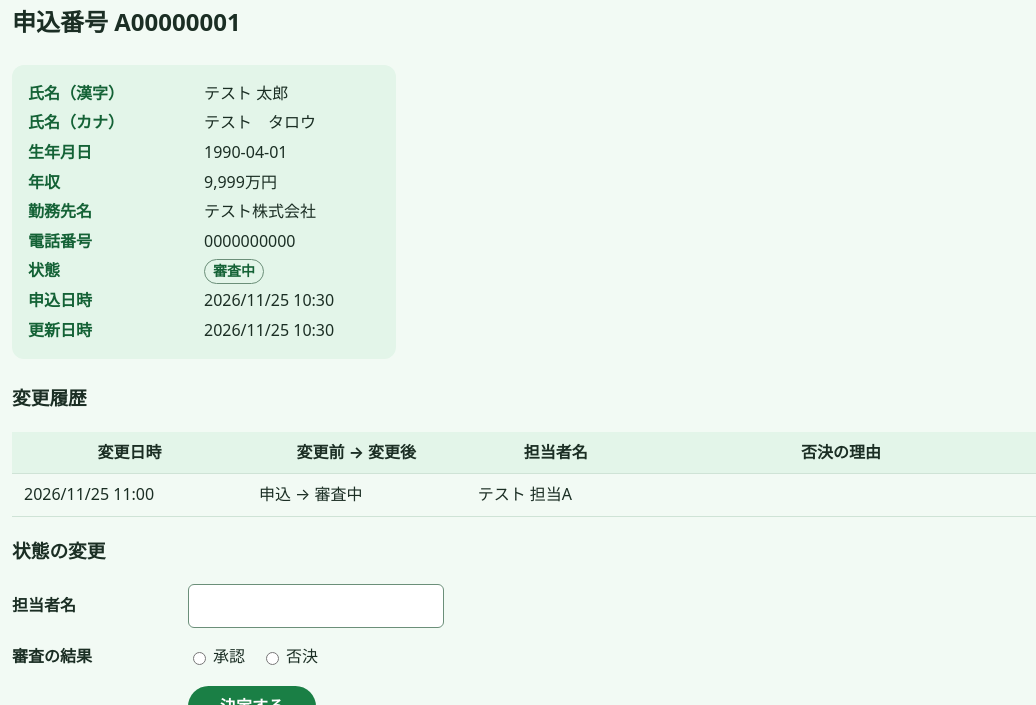
Test case: ほかの担当者とぶつかったら、詳細を読み直して最新の状態と履歴を出し、メッセージは残す
The width and height of the screenshot is (1036, 705).
Type "テスト 担当B" into the field labelled "担当者名".
click(316, 606); type("テスト 担当B")  # box left=188, top=584, right=444, bottom=628
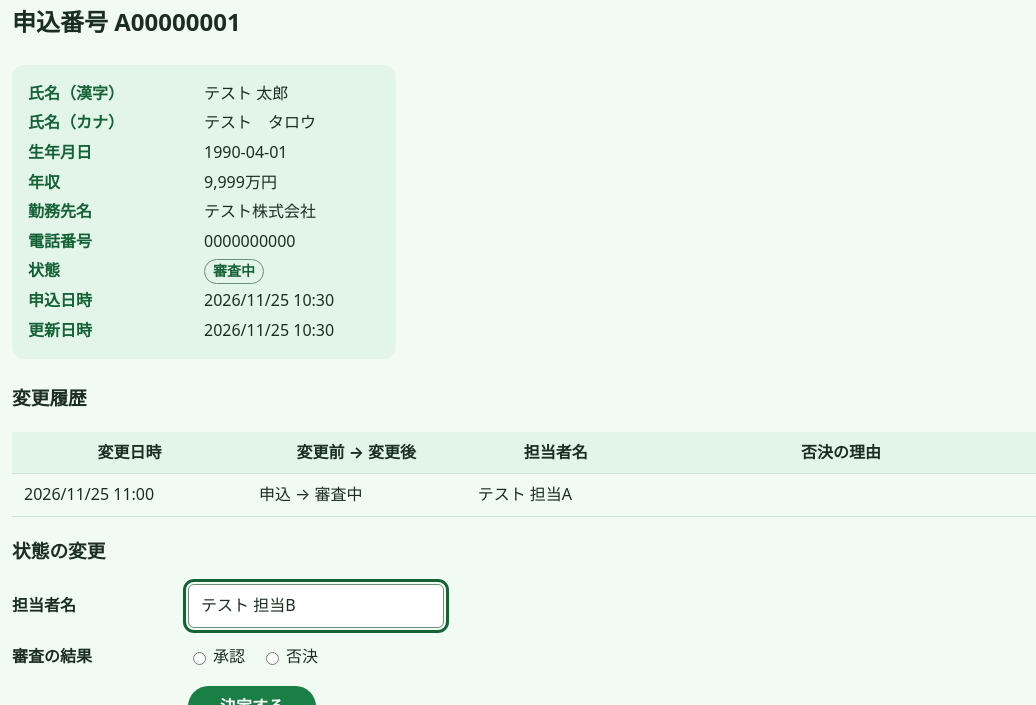
Click the radio button labelled "否決".
click(272, 658)  # box left=266, top=652, right=279, bottom=665
(page scrolled)
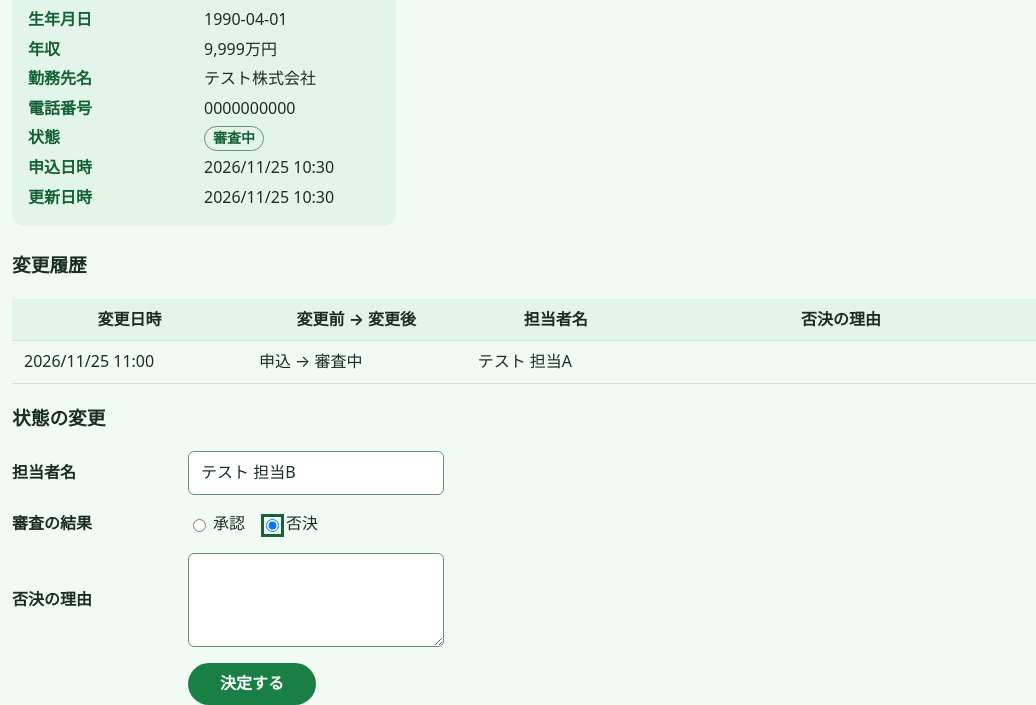
Type "テスト用の否決理由" into the text box labelled "否決の理由".
click(316, 600); type("テスト用の否決理由")  # box left=188, top=553, right=444, bottom=647
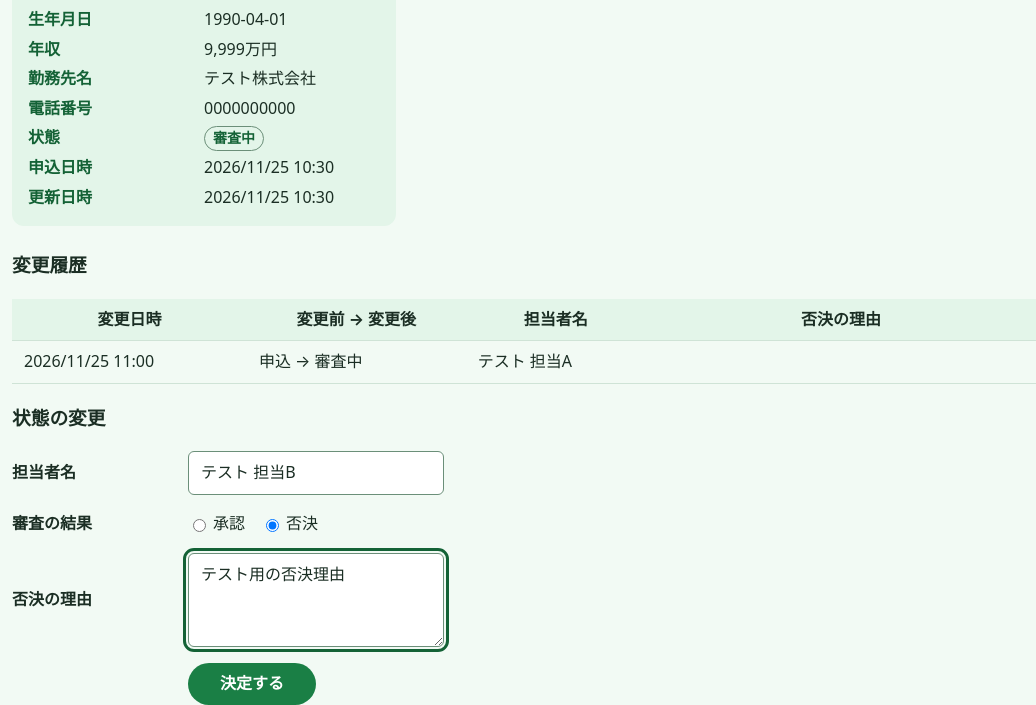
Click the button "決定する".
click(252, 684)  # box left=188, top=663, right=316, bottom=704
(page scrolled)
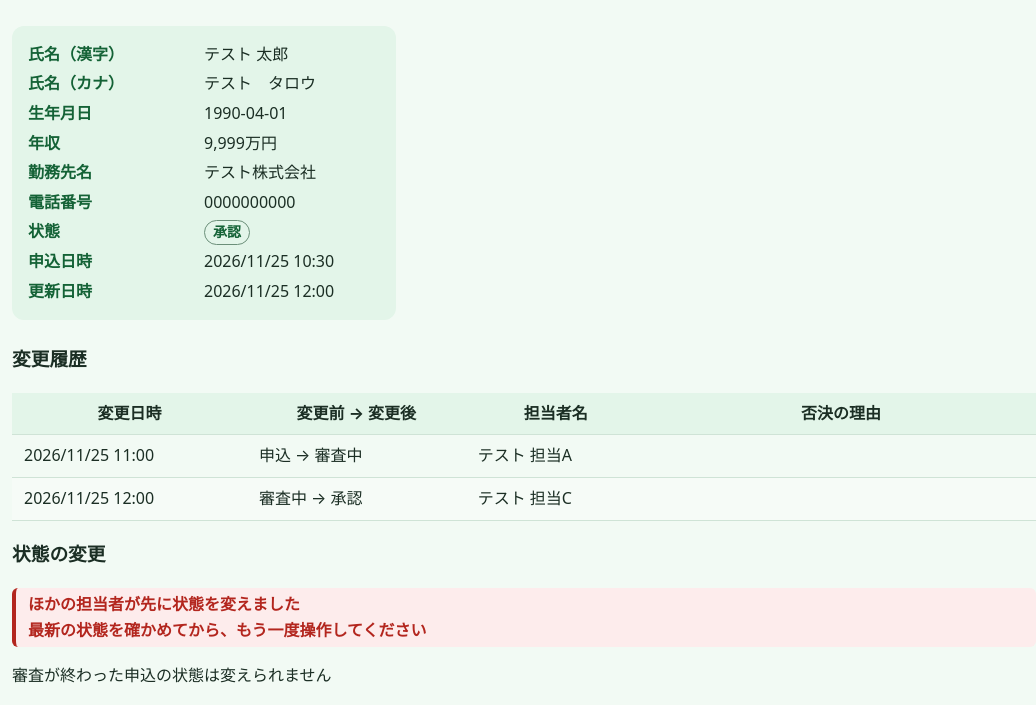
Expected: the text "審査が終わった申込の状態は変えられません" is shown, left=12, top=664, right=332, bottom=686
Expected: the text "テスト 担当C" is shown, left=466, top=478, right=646, bottom=520
Expected: the message shows "最新の状態を確かめてから、もう一度操作してください", left=28, top=619, right=427, bottom=641
